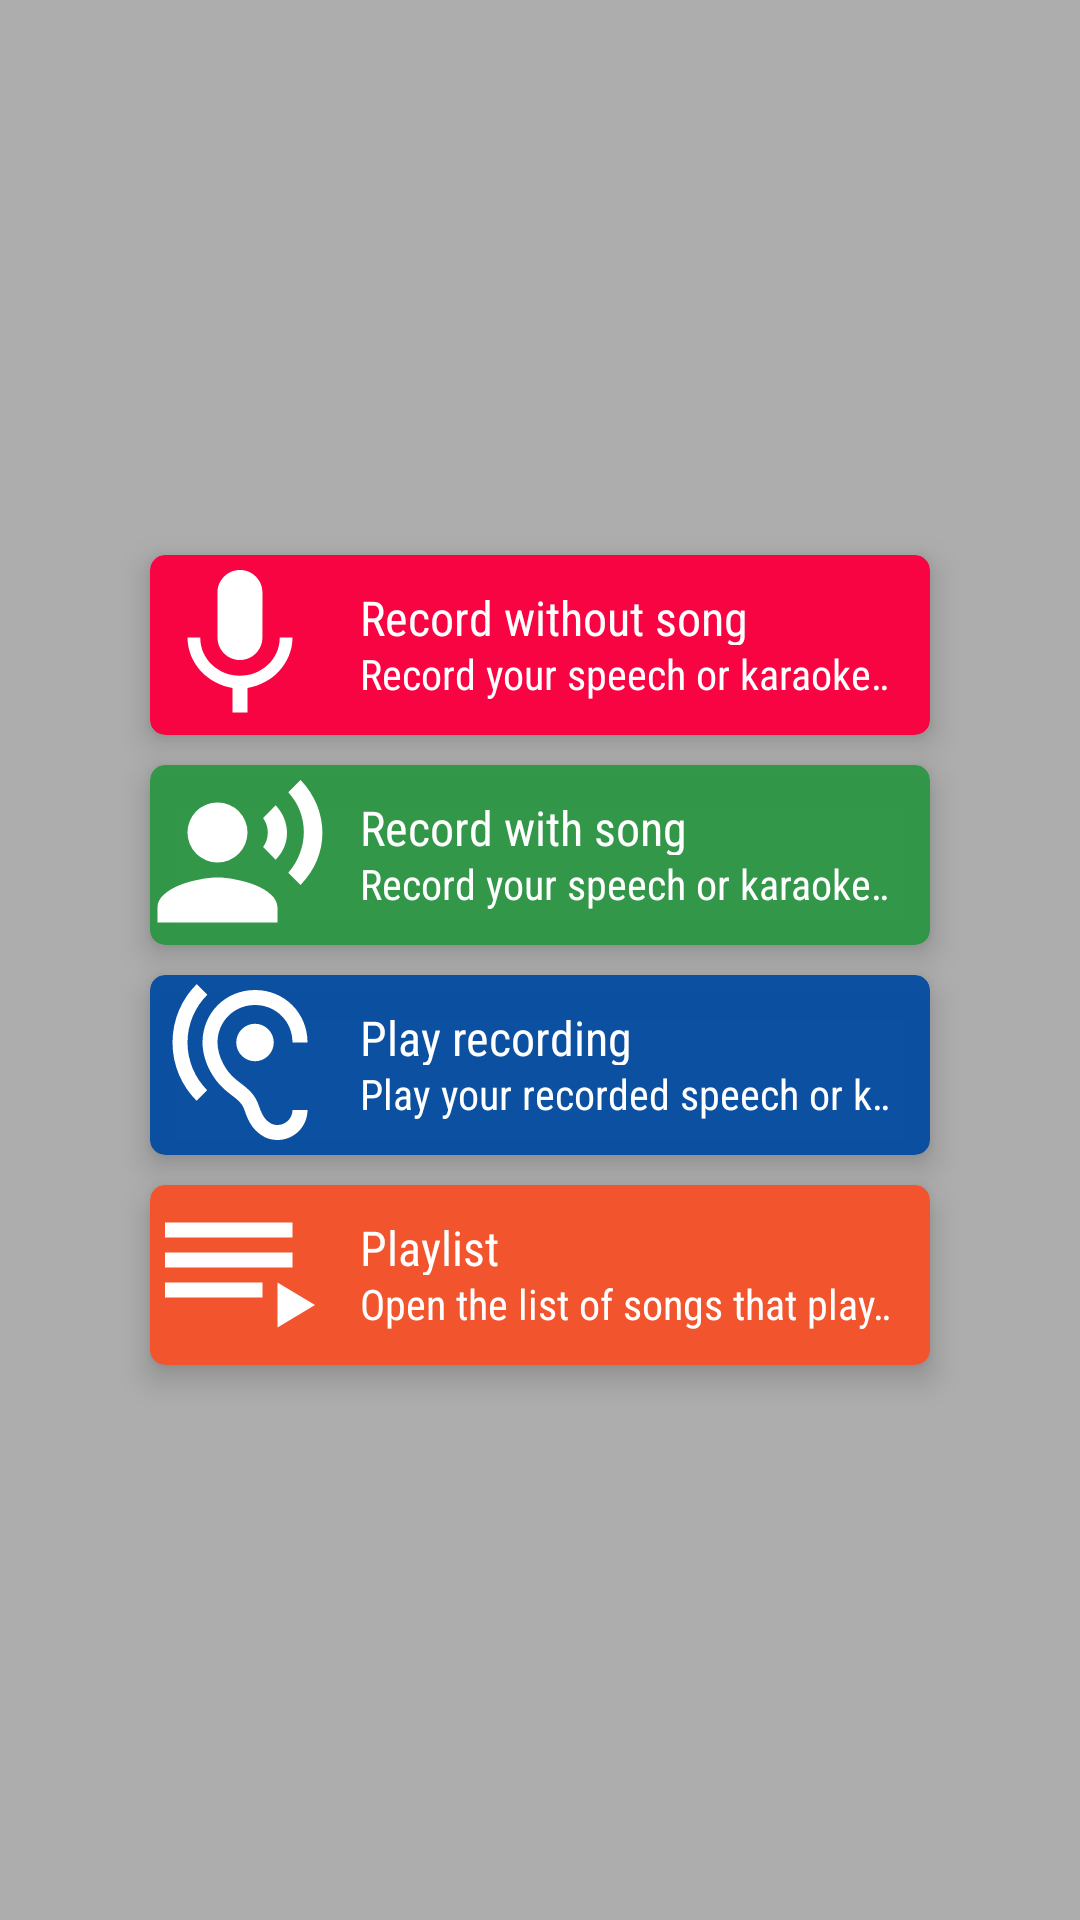

Where icons sit on this 1080 x 1920 app screen, as (x1, y1, x2, y2):
hearing: (150, 975, 330, 1155)
mic: (150, 555, 330, 735)
record voice over: (150, 765, 330, 945)
